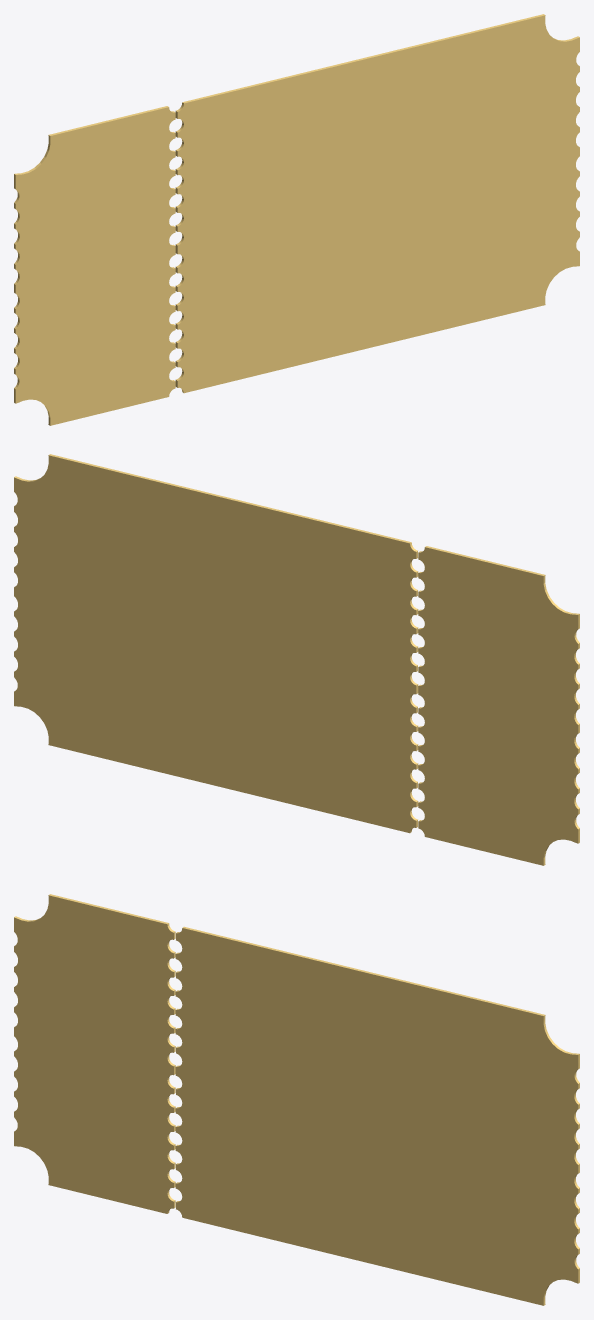
The model's file is ticket-gold.glb.
The picture shows the model from 3 angles, top to bottom: view 1: azimuth 30°, elevation 25°; view 2: azimuth 150°, elevation 25°; view 3: azimuth 330°, elevation 25°; orthographic projection.
Parts seen in each view (by area): view 1: Ticket; view 2: Ticket; view 3: Ticket.
Part boxes in pixels (box(x1,y1,x2,y2)): Ticket: box(14, 14, 579, 425); Ticket: box(14, 454, 579, 865); Ticket: box(14, 894, 579, 1305).
Size of the model in its own units: 0.5084 by 0.2495 by 0.00265.
